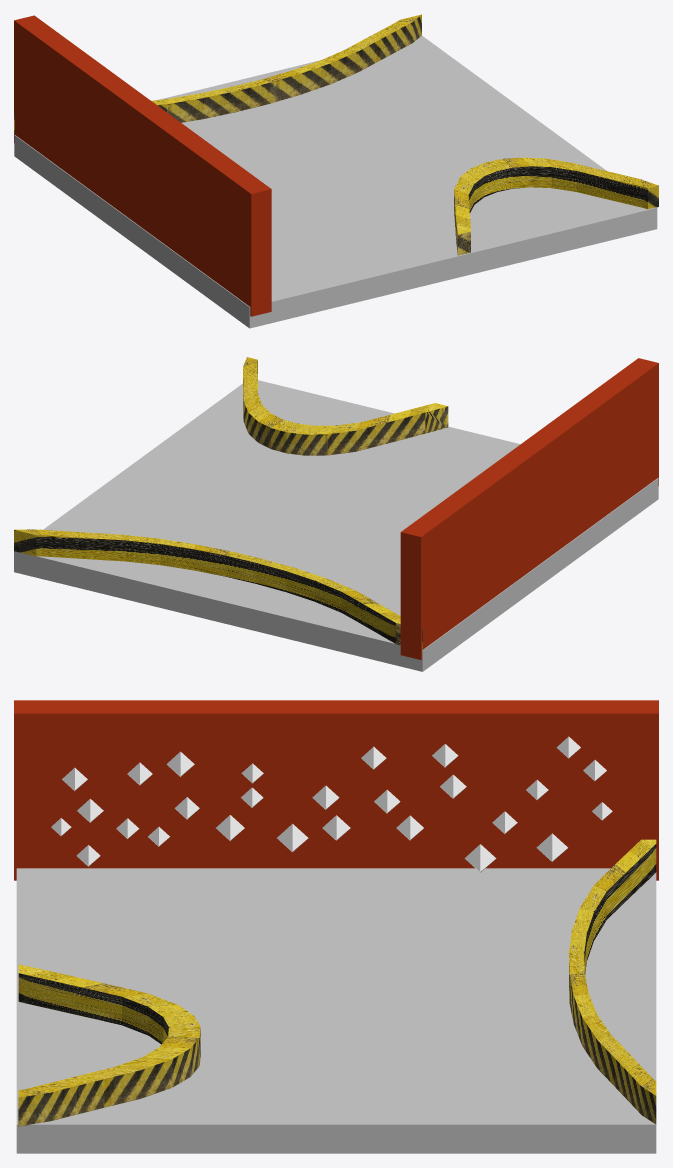
The model's file is SWRoad.fbx.
3 views of the same model, one above another, from view 1: azimuth 30°, elevation 25°; view 2: azimuth 150°, elevation 25°; view 3: azimuth 270°, elevation 25° (orthographic). The views are drawn at different scales.
Parts seen in each view (by area): view 1: Cube, Cube.001, Cube.003, Cube.002; view 2: Cube, Cube.001, Cube.003, Cube.002; view 3: Cube, Cube.001, Cube.002, Cube.003.
Part boxes in pixels (x1,y1,x2,y2): Cube: (14, 36, 657, 328); Cube.001: (14, 15, 271, 316); Cube.003: (14, 14, 421, 134); Cube.002: (454, 157, 658, 255); Cube: (14, 380, 658, 671); Cube.001: (400, 358, 658, 659); Cube.003: (14, 529, 422, 650); Cube.002: (243, 357, 448, 455); Cube: (16, 868, 656, 1153); Cube.001: (14, 700, 658, 880); Cube.002: (18, 964, 200, 1126); Cube.003: (569, 839, 656, 1124).
Size of the model in its own units: 4023 by 1266 by 4033.
